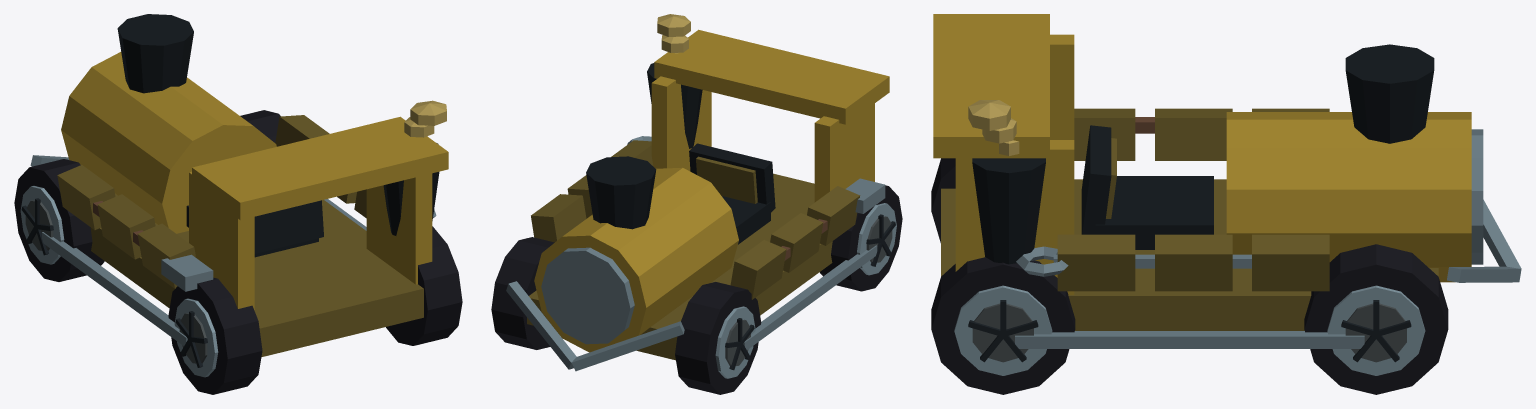
File: kart.glb
The picture shows the model from 3 angles, left to right: view 1: azimuth 30°, elevation 25°; view 2: azimuth 150°, elevation 25°; view 3: azimuth 270°, elevation 25°; orthographic projection. The views are drawn at different scales.
Visible parts, largest first — view 1: identity-train-locomotive-boiler-and-cowcatcher, wheel-rear-left, identity-train-motif-armor, wheel-front-left, wheel-rear-right, identity-train-driver-cockpit, identity-train-motif-steam, identity-train-motif-tools, wheel-front-right; view 2: identity-train-locomotive-boiler-and-cowcatcher, identity-train-motif-armor, wheel-front-left, identity-train-driver-cockpit, wheel-rear-left, wheel-front-right, identity-train-motif-steam, identity-train-motif-tools; view 3: identity-train-locomotive-boiler-and-cowcatcher, identity-train-motif-armor, wheel-front-right, wheel-rear-right, identity-train-driver-cockpit, identity-train-motif-steam, identity-train-motif-tools, wheel-rear-left.
Boxes of the visible parts, left/top/right/bottom form: identity-train-locomotive-boiler-and-cowcatcher: left=30, top=14, right=448, bottom=357; wheel-rear-left: left=168, top=277, right=262, bottom=394; identity-train-motif-armor: left=57, top=115, right=366, bottom=288; wheel-front-left: left=14, top=159, right=104, bottom=281; wheel-rear-right: left=386, top=226, right=462, bottom=345; identity-train-driver-cockpit: left=186, top=200, right=323, bottom=257; identity-train-motif-steam: left=383, top=100, right=446, bottom=235; identity-train-motif-tools: left=93, top=201, right=436, bottom=291; wheel-front-right: left=240, top=110, right=280, bottom=142; identity-train-locomotive-boiler-and-cowcatcher: left=506, top=29, right=889, bottom=371; identity-train-motif-armor: left=531, top=140, right=860, bottom=299; wheel-front-left: left=675, top=282, right=761, bottom=394; identity-train-driver-cockpit: left=689, top=143, right=775, bottom=244; wheel-rear-left: left=820, top=185, right=902, bottom=291; wheel-front-right: left=491, top=237, right=554, bottom=349; identity-train-motif-steam: left=647, top=14, right=702, bottom=148; identity-train-motif-tools: left=627, top=136, right=885, bottom=260; identity-train-locomotive-boiler-and-cowcatcher: left=933, top=14, right=1521, bottom=348; identity-train-motif-armor: left=1057, top=108, right=1329, bottom=291; wheel-front-right: left=1304, top=244, right=1448, bottom=394; wheel-rear-right: left=931, top=257, right=1075, bottom=394; identity-train-driver-cockpit: left=1081, top=125, right=1213, bottom=249; identity-train-motif-steam: left=968, top=100, right=1045, bottom=264; identity-train-motif-tools: left=1016, top=117, right=1251, bottom=276; wheel-rear-left: left=931, top=158, right=955, bottom=242.
Bounding box in the file's own units: 1.91 × 1.63 × 3.04.
